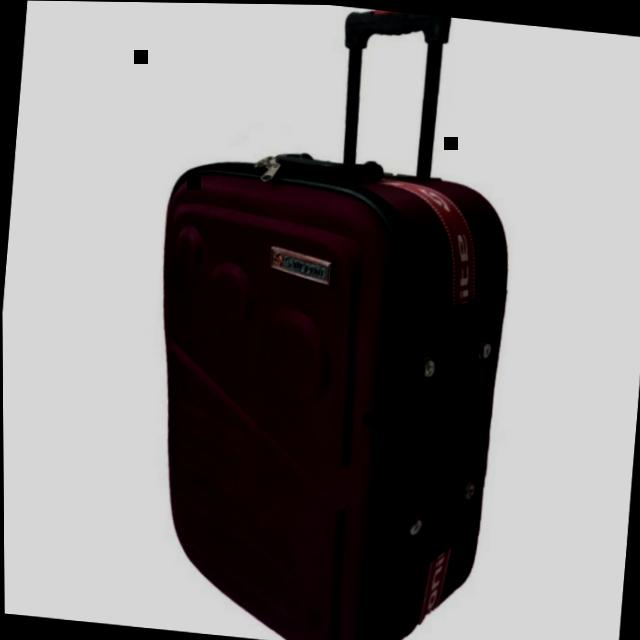luggage: (123, 127, 530, 640)
